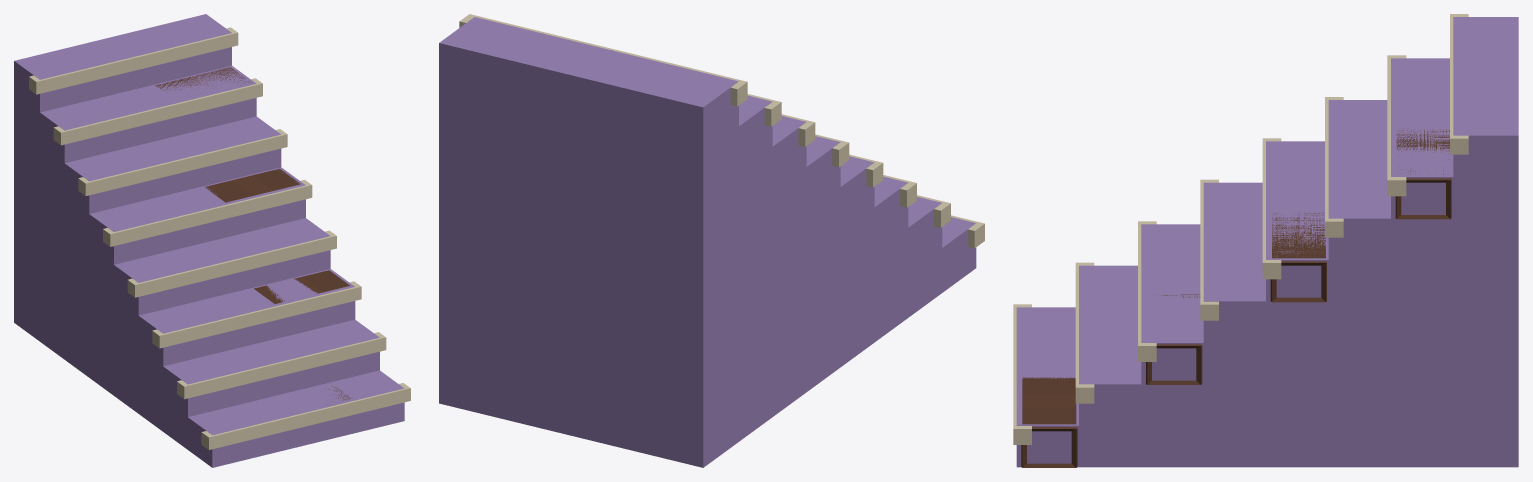
File: stairs-crate-lilac.glb
3 views of the same model, side by side, from view 1: azimuth 30°, elevation 25°; view 2: azimuth 150°, elevation 25°; view 3: azimuth 270°, elevation 25° (orthographic). The views are drawn at different scales.
Visible parts, largest first — view 1: stairs-crate-lilac; view 2: stairs-crate-lilac; view 3: stairs-crate-lilac.
Boxes of the visible parts, box(x1,y1,x2,y2) form: stairs-crate-lilac: box(14, 14, 410, 467); stairs-crate-lilac: box(439, 14, 984, 467); stairs-crate-lilac: box(1013, 14, 1518, 467).
Size of the model in its own units: 1.42 by 1.77 by 2.43.
